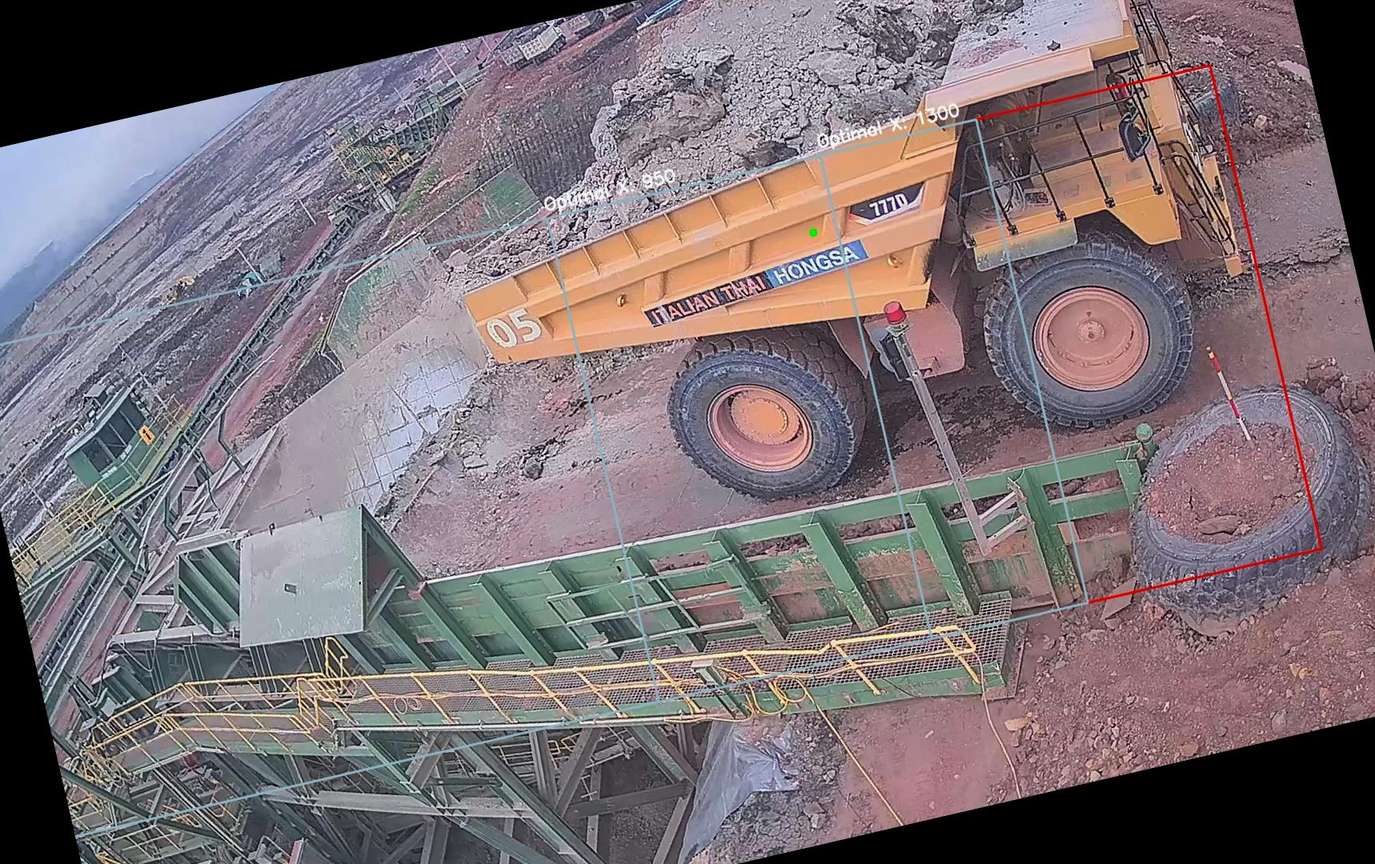company: (627, 230, 883, 334)
full_load: (535, 0, 932, 226)
mining_truck: (400, 0, 1287, 556)
tail_number: (471, 288, 557, 368)
truck_size: (840, 180, 938, 232)
